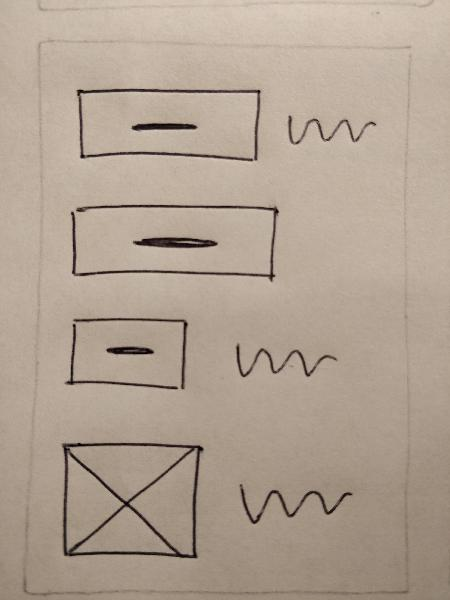button: (61, 200, 283, 291), (68, 81, 264, 172), (60, 313, 194, 397)
image: (53, 434, 207, 570)
text: (221, 337, 346, 392), (233, 476, 359, 530), (279, 106, 381, 155)
